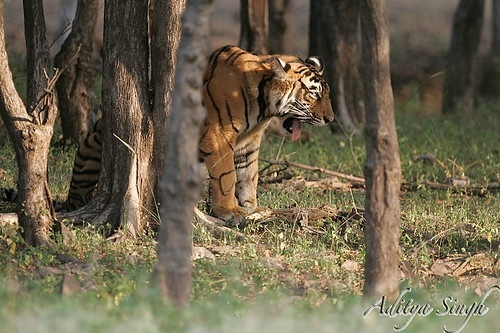tigre: (63, 38, 338, 221)
